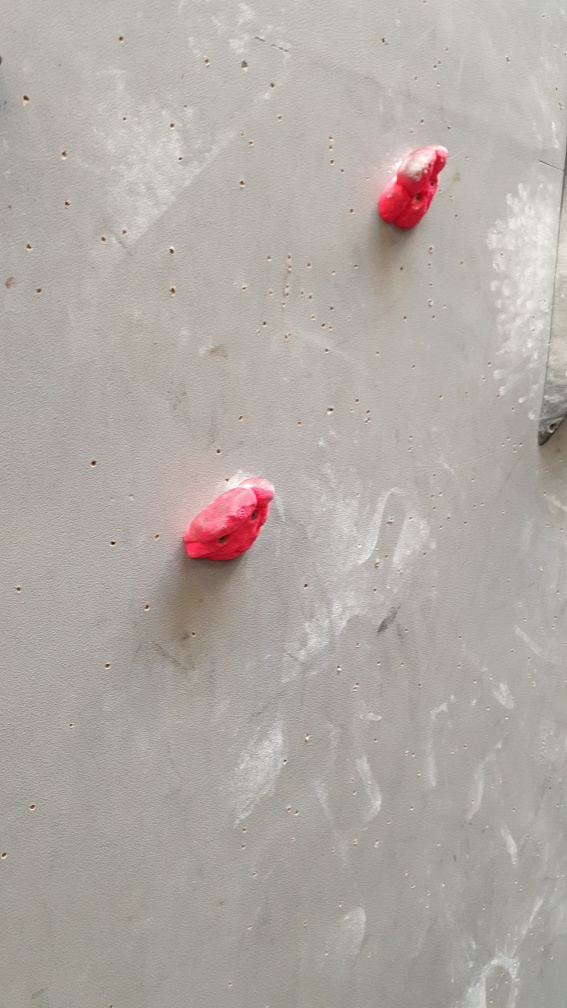Jug: (187, 471, 279, 571), (373, 142, 453, 230)
